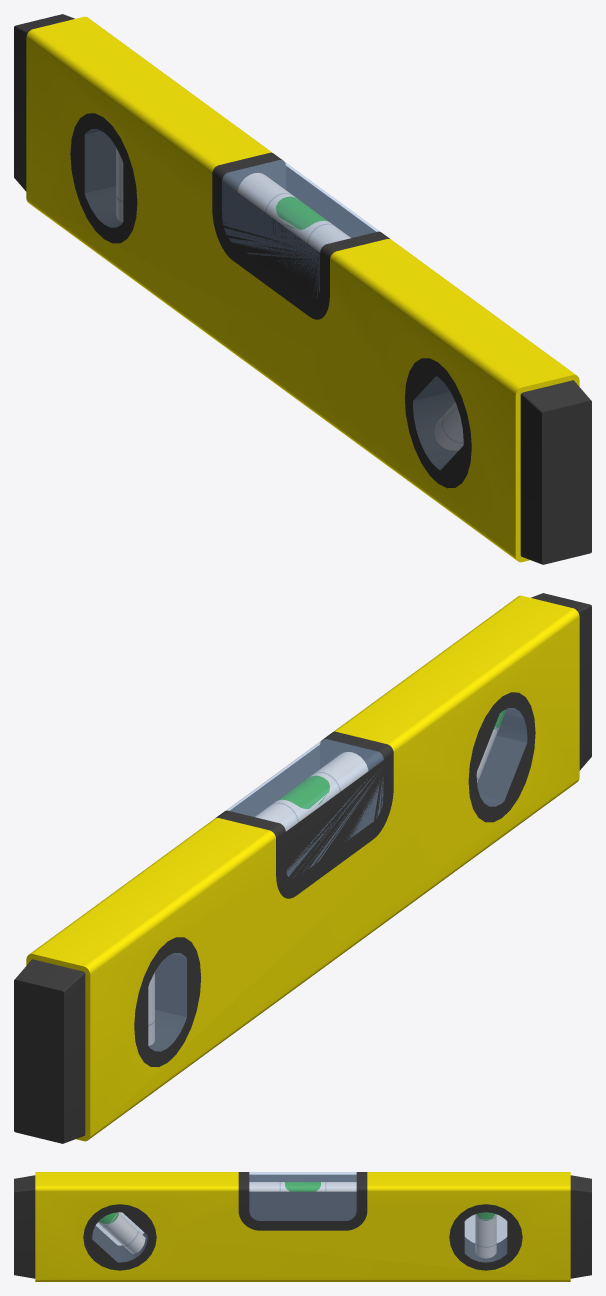
The model's file is Wasserwaage1.glb.
3 renders of one model, top to bottom at view 1: azimuth 30°, elevation 25°; view 2: azimuth 150°, elevation 25°; view 3: azimuth 270°, elevation 25°, orthographic. The views are drawn at different scales.
Parts seen in each view (by area): view 1: Group1, Model; view 2: Group1, Model; view 3: Group1, Model.
Part boxes in pixels (x1,y1,x2,y2): Group1: (14, 14, 591, 564); Model: (84, 129, 463, 469); Group1: (14, 593, 591, 1143); Model: (148, 708, 527, 1051); Group1: (14, 1172, 591, 1281); Model: (92, 1172, 507, 1262).
Bounding box in the file's own units: 1.9 × 4.98 × 27.27.
